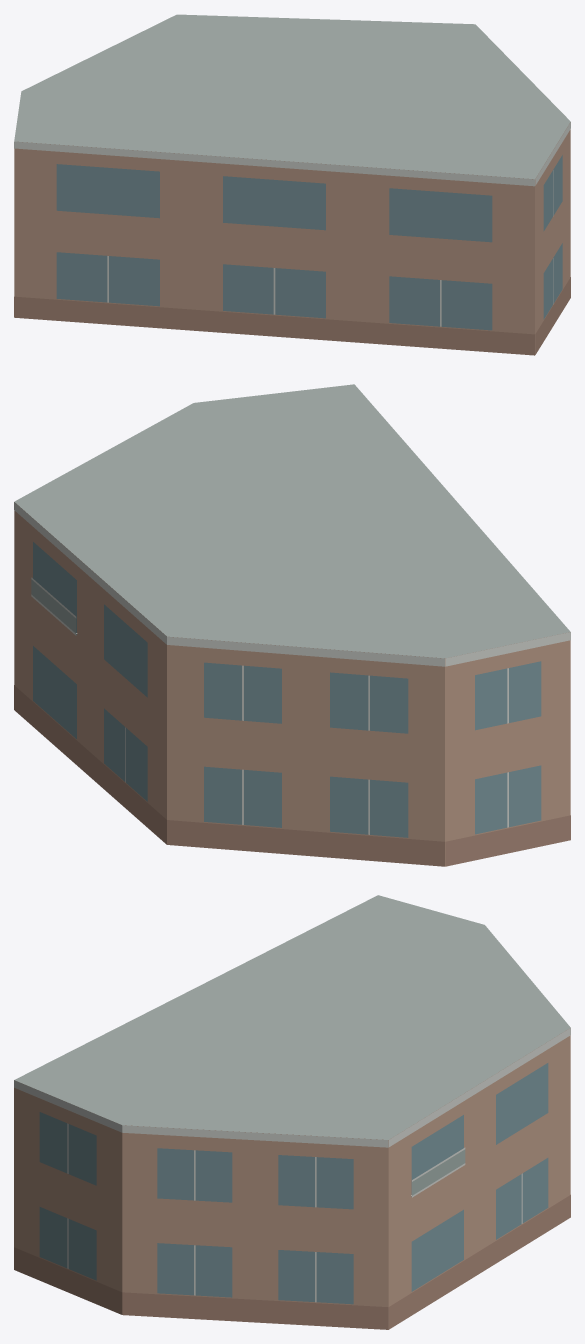
The model's file is survey-upis-32820259.glb.
The picture shows the model from 3 angles, top to bottom: view 1: azimuth 30°, elevation 25°; view 2: azimuth 150°, elevation 25°; view 3: azimuth 270°, elevation 25°; orthographic projection. The views are drawn at different scales.
Parts seen in each view (by area): view 1: survey-upis-32820259.tmp; view 2: survey-upis-32820259.tmp; view 3: survey-upis-32820259.tmp.
Part boxes in pixels (x1,y1,x2,y2): survey-upis-32820259.tmp: (14, 14, 570, 355); survey-upis-32820259.tmp: (14, 384, 570, 866); survey-upis-32820259.tmp: (14, 895, 570, 1329).
Size of the model in its own units: 16.9 by 6.1 by 16.23.
